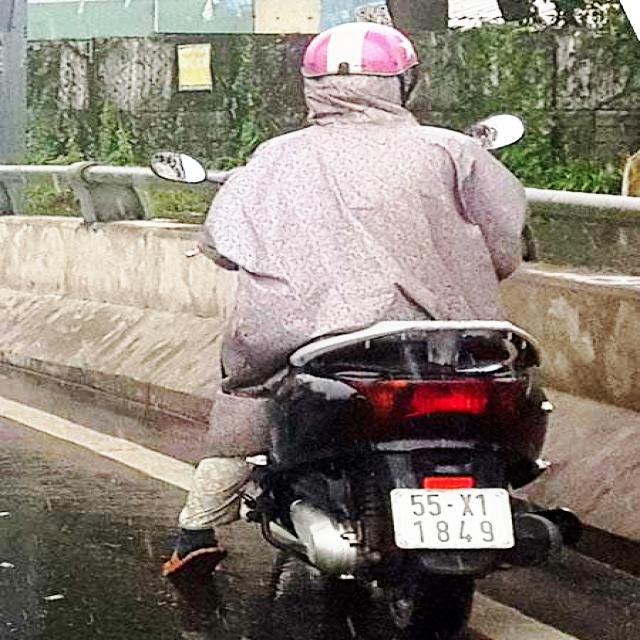license_plate: (395, 489, 515, 549)
